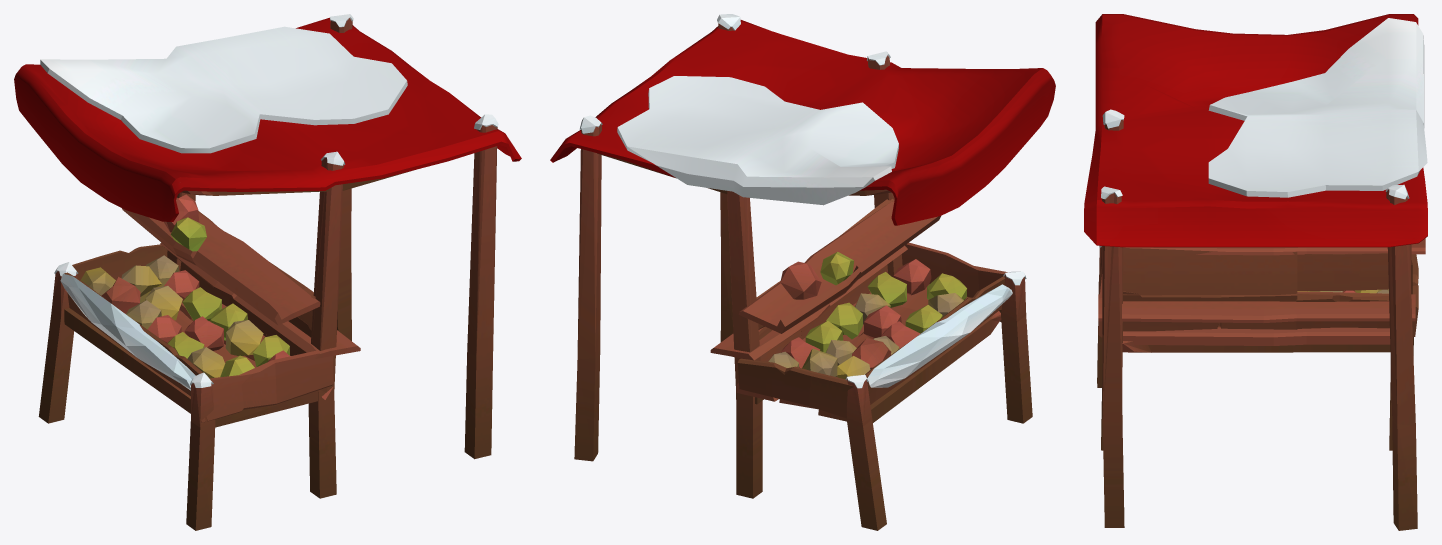
3 views of the same model, side by side, from view 1: azimuth 30°, elevation 25°; view 2: azimuth 150°, elevation 25°; view 3: azimuth 270°, elevation 25° (orthographic).
Parts seen in each view (by area): view 1: SnowyMarketStand; view 2: SnowyMarketStand; view 3: SnowyMarketStand.
Boxes of the visible parts, x1,y1,x2,y2 form: SnowyMarketStand: (14,14,521,530); SnowyMarketStand: (550,14,1055,530); SnowyMarketStand: (1084,14,1427,530).
Size of the model in its own units: 164 by 160 by 138.
Materials: 1 (1 with a texture image).
